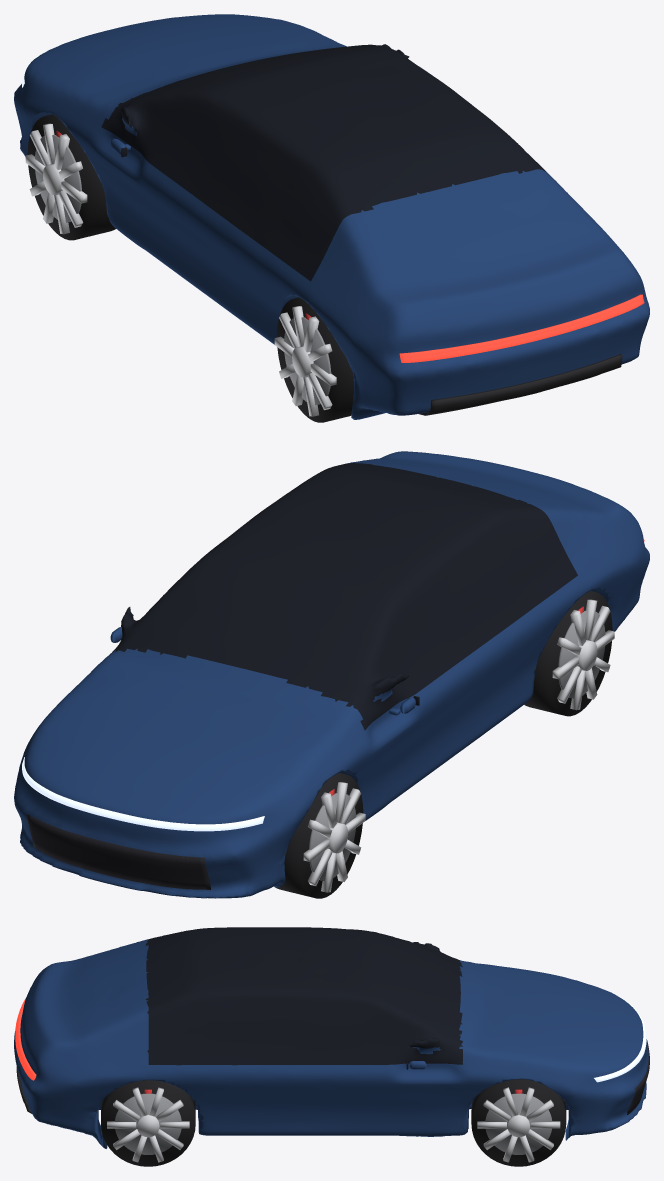
The model's file is hero_car.glb.
The picture shows the model from 3 angles, top to bottom: view 1: azimuth 30°, elevation 25°; view 2: azimuth 150°, elevation 25°; view 3: azimuth 270°, elevation 25°; orthographic projection. The views are drawn at different scales.
Visible parts, largest first — view 1: hero_car_body, wheel_FL, wheel_RL; view 2: hero_car_body, wheel_RL, wheel_FL; view 3: hero_car_body, wheel_FR, wheel_RR.
Boxes of the visible parts, left/top/right/bottom form: hero_car_body: left=14, top=14, right=649, bottom=419; wheel_FL: left=25, top=114, right=115, bottom=240; wheel_RL: left=274, top=297, right=354, bottom=422; hero_car_body: left=14, top=451, right=649, bottom=898; wheel_RL: left=524, top=591, right=614, bottom=716; wheel_FL: left=275, top=773, right=365, bottom=898; hero_car_body: left=14, top=927, right=649, bottom=1148; wheel_FR: left=471, top=1079, right=566, bottom=1166; wheel_RR: left=101, top=1080, right=195, bottom=1166.
Bounding box in the file's own units: 2.08 × 1.46 × 5.17.
